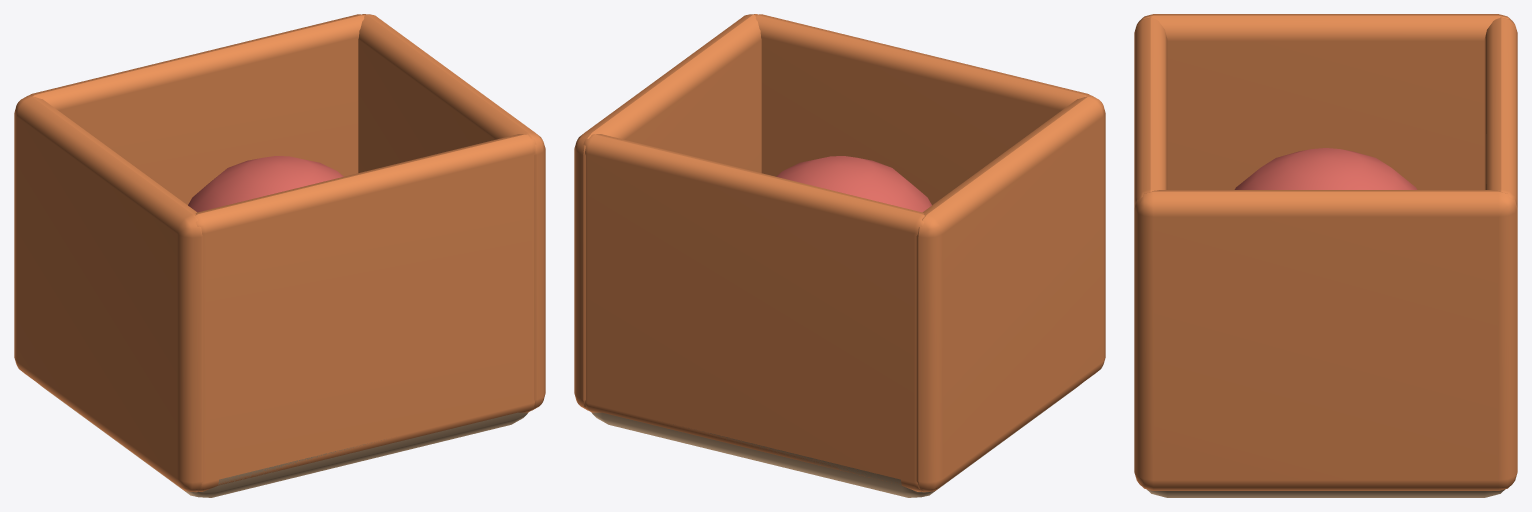
Rendered from ava-position-inside.glb.
The picture shows the model from 3 angles, left to right: view 1: azimuth 30°, elevation 25°; view 2: azimuth 150°, elevation 25°; view 3: azimuth 270°, elevation 25°; orthographic projection. The views are drawn at different scales.
Parts seen in each view (by area): view 1: box side.002, box side, box side.003, box side.001, location ball, box floor; view 2: box side.003, box side, box side.002, box side.001, box floor, location ball; view 3: box side.001, box side, box side.002, box side.003, location ball, box floor.
Part boxes in pixels (left/top/right/bottom): box side.002: left=195, top=134, right=536, bottom=491; box side: left=14, top=95, right=203, bottom=492; box side.003: left=28, top=14, right=364, bottom=205; box side.001: left=358, top=14, right=545, bottom=410; location ball: left=188, top=156, right=343, bottom=212; box floor: left=40, top=385, right=528, bottom=497; box side.003: left=583, top=134, right=924, bottom=491; box side: left=916, top=95, right=1105, bottom=492; box side.002: left=755, top=14, right=1091, bottom=205; box side.001: left=574, top=14, right=761, bottom=410; box floor: left=591, top=385, right=1079, bottom=497; location ball: left=776, top=156, right=931, bottom=212; box side.001: left=1134, top=190, right=1517, bottom=490; box side: left=1137, top=14, right=1514, bottom=189; box side.002: left=1134, top=17, right=1167, bottom=207; box side.003: left=1484, top=17, right=1517, bottom=207; location ball: left=1234, top=148, right=1417, bottom=189; box floor: left=1147, top=489, right=1504, bottom=497.
Bounding box in the file's own units: 0.83 × 0.63 × 0.7.
